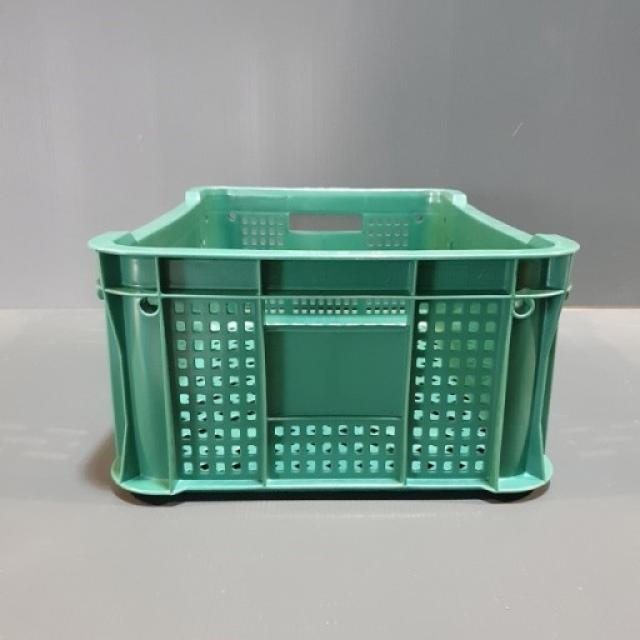basket: (90, 187, 579, 496)
